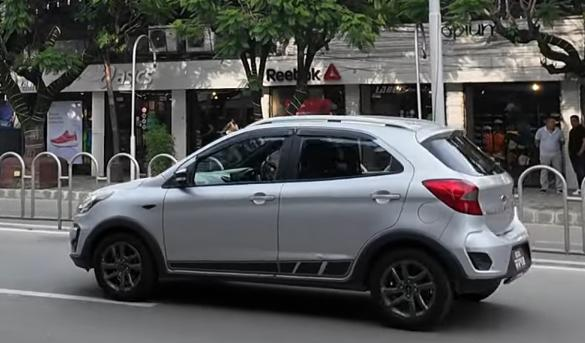car: (68, 95, 536, 324)
